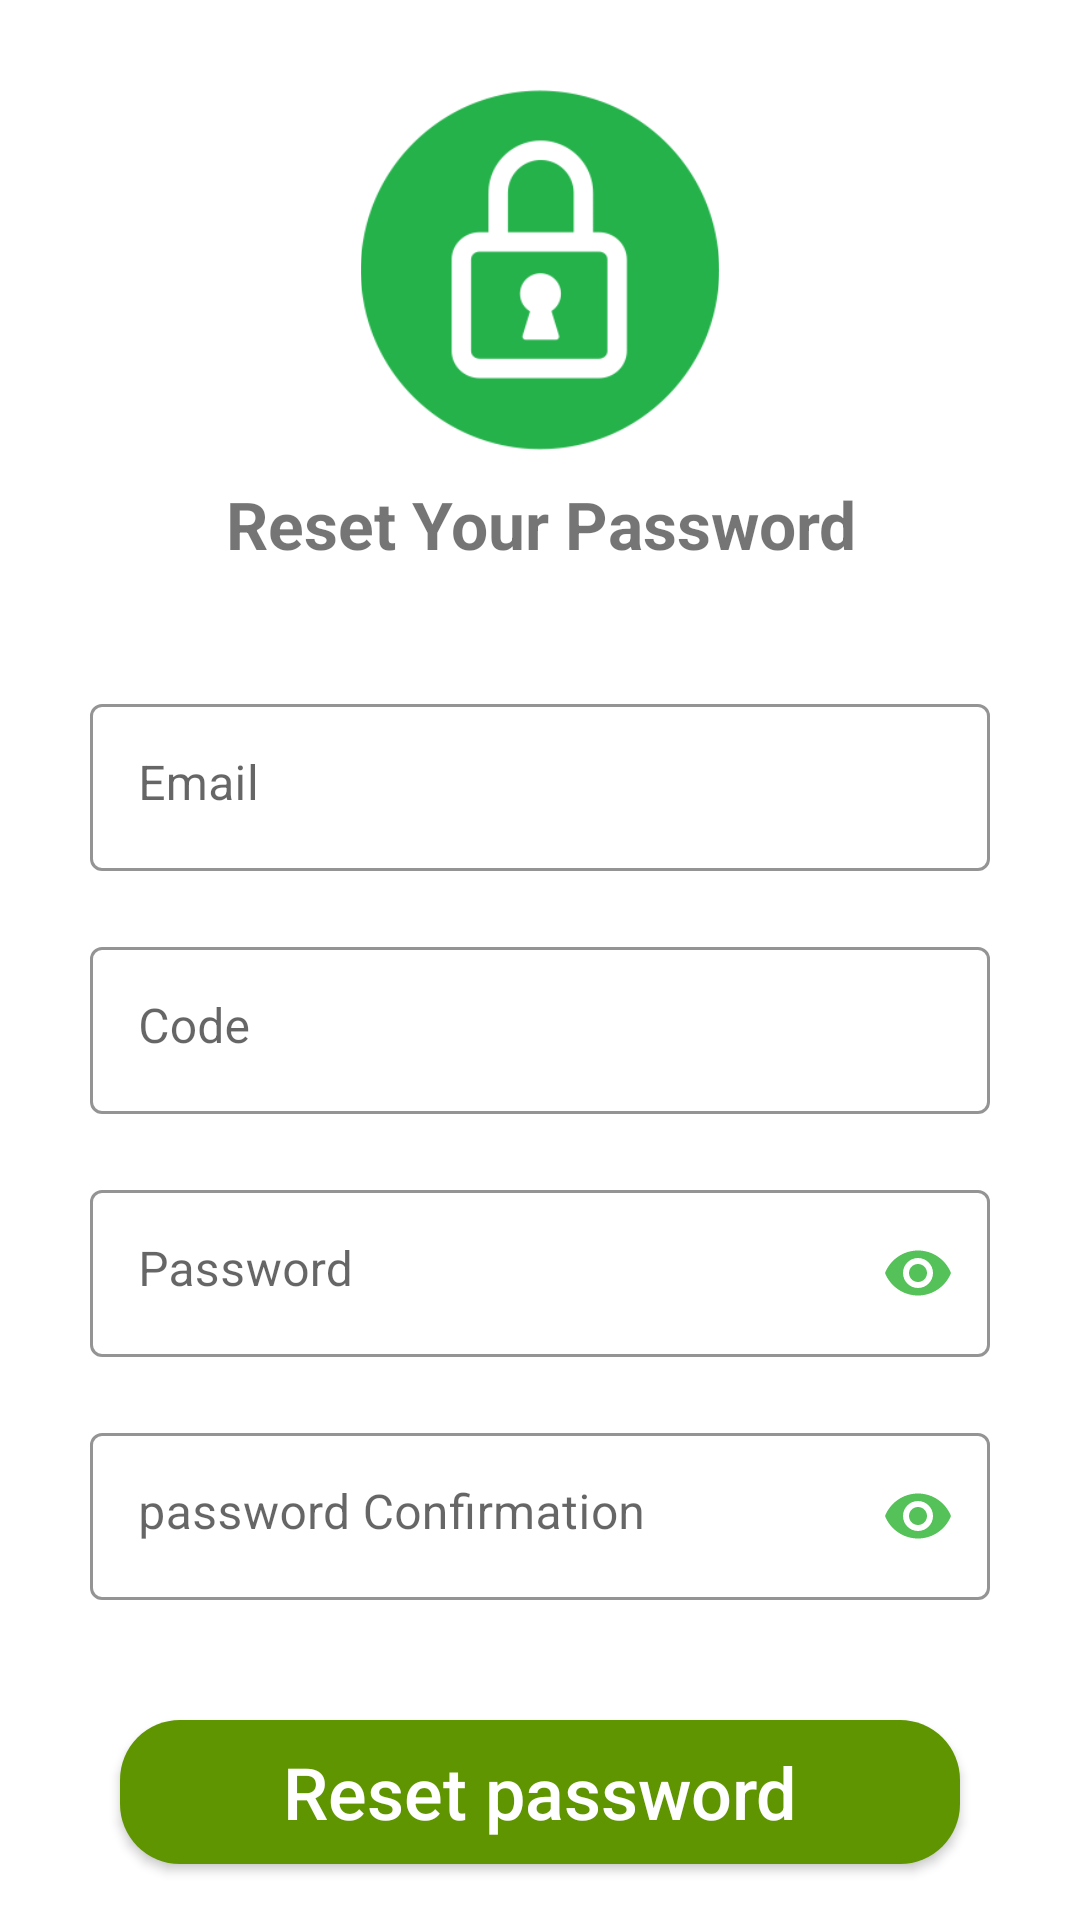

Point at icon controls on the screen. Image size 1080 x 1920, points as [x,y].
lockgreen: [540,270]
